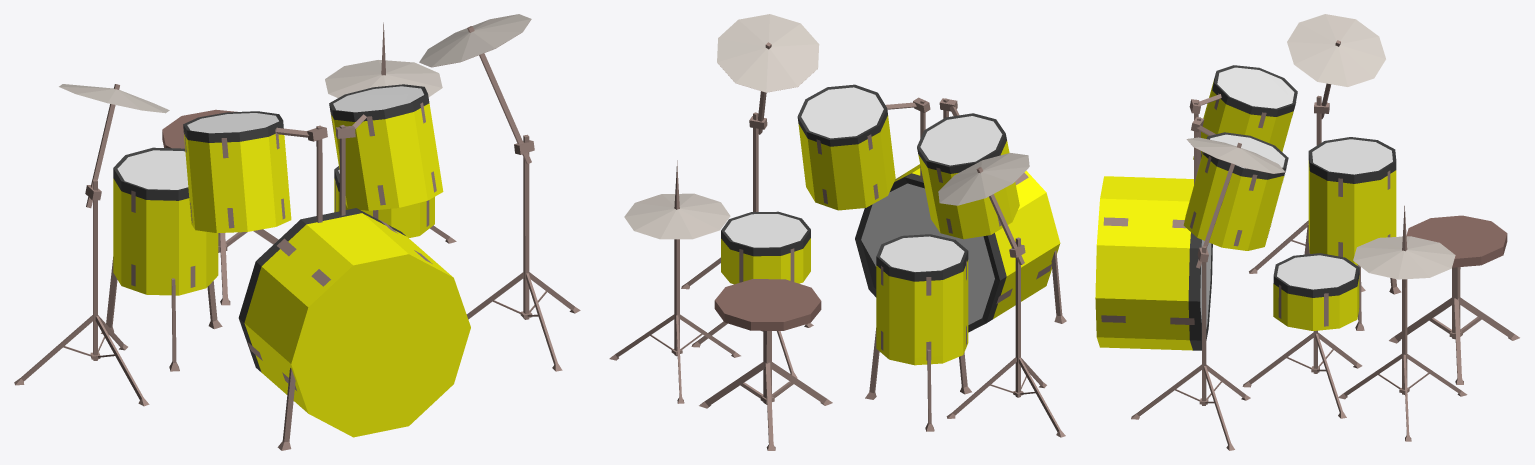
The model's file is DrumSet.fbx.
The picture shows the model from 3 angles, left to right: view 1: azimuth 30°, elevation 25°; view 2: azimuth 150°, elevation 25°; view 3: azimuth 270°, elevation 25°; orthographic projection. The views are drawn at different scales.
Parts seen in each view (by area): view 1: DrumSet; view 2: DrumSet; view 3: DrumSet.
Boxes of the visible parts, x1,y1,x2,y2 form: DrumSet: (14, 14, 580, 450); DrumSet: (609, 14, 1066, 450); DrumSet: (1095, 14, 1519, 450).
Size of the model in its own units: 82.36 by 49.3 by 69.99.
